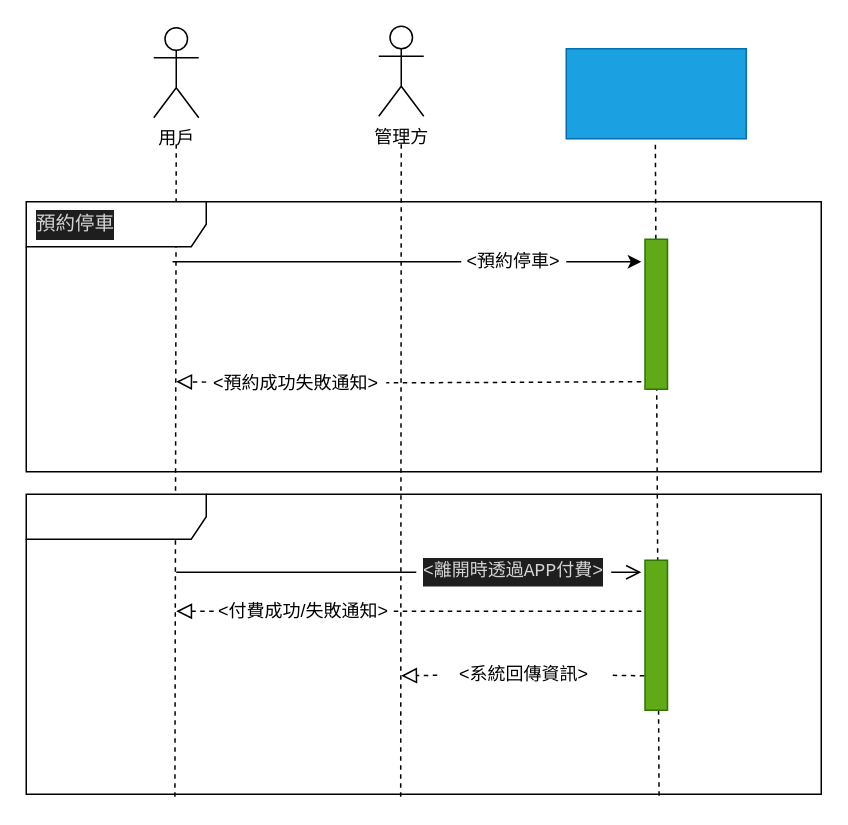
The diagram is 848 pixels wide and 825 high, and some of its shapes have lost their labels. Each missing label, with the centre of its shape:
"C:APP" goes at [655,93].
"結帳回傳資訊" goes at [423,643].
